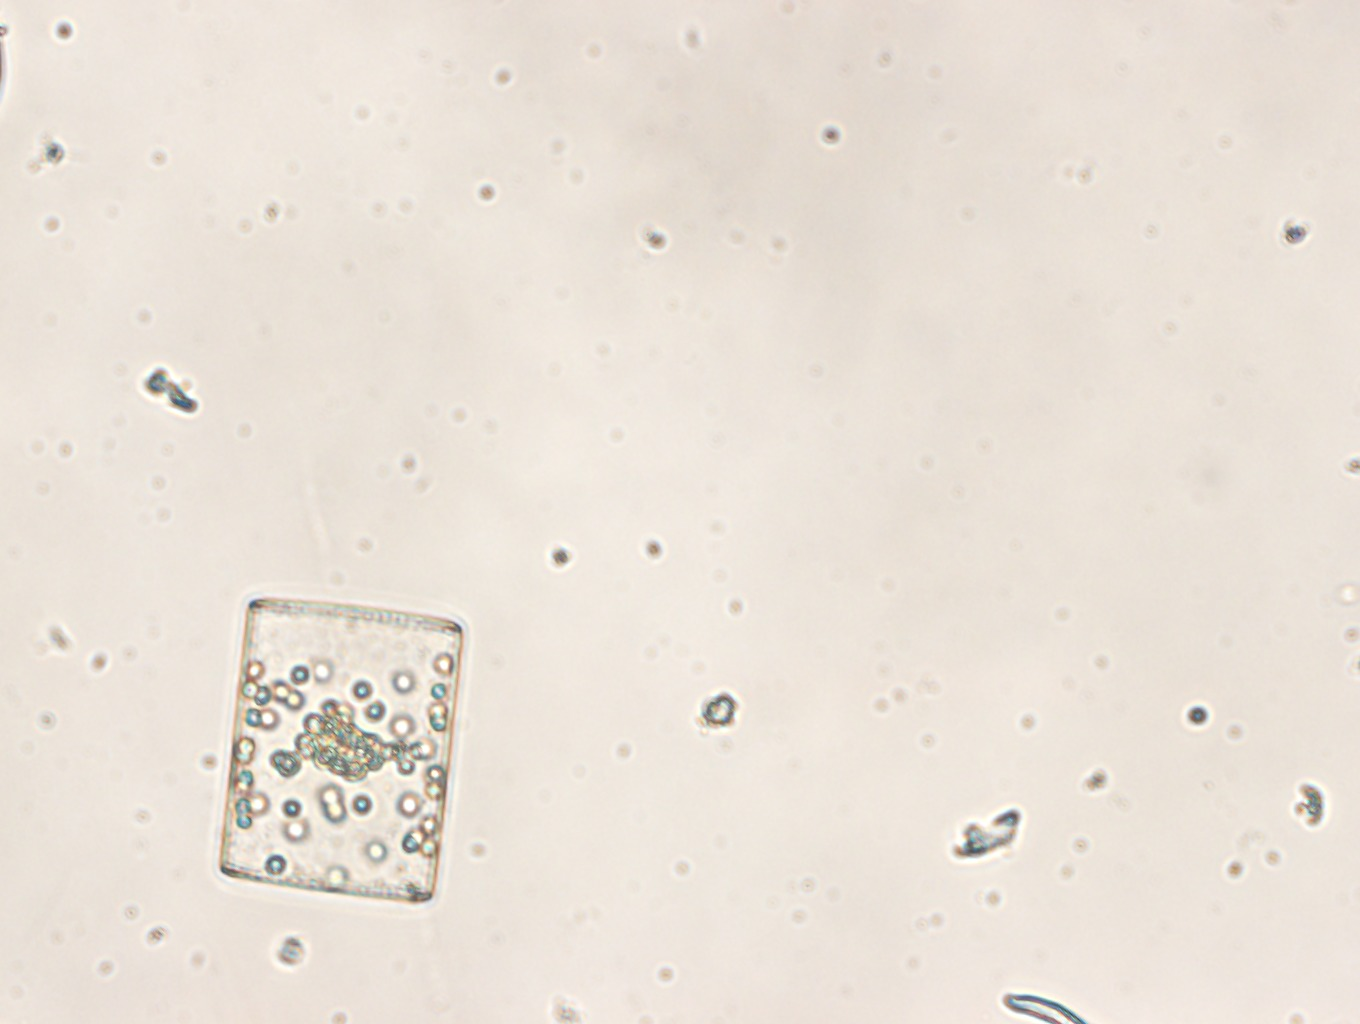guinardia flaccida: (218, 596, 464, 905)
